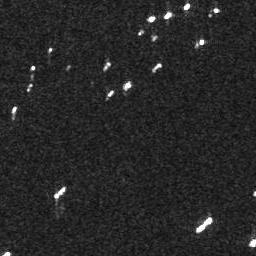ship: (193, 216, 213, 234), (53, 187, 68, 199), (151, 63, 163, 73), (123, 80, 132, 91), (102, 61, 111, 71), (196, 38, 205, 48), (163, 11, 173, 20), (147, 15, 157, 24), (9, 105, 18, 114), (106, 88, 114, 98), (182, 3, 191, 11), (26, 83, 33, 92)
